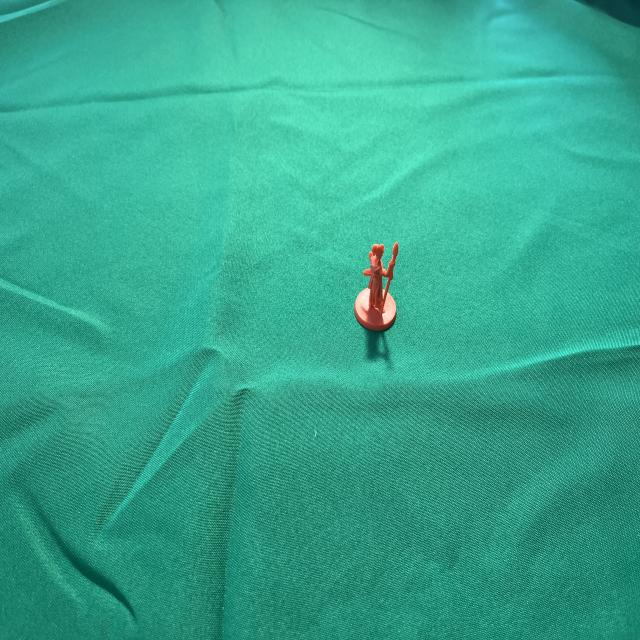amon_follower: (354, 242, 399, 330)
